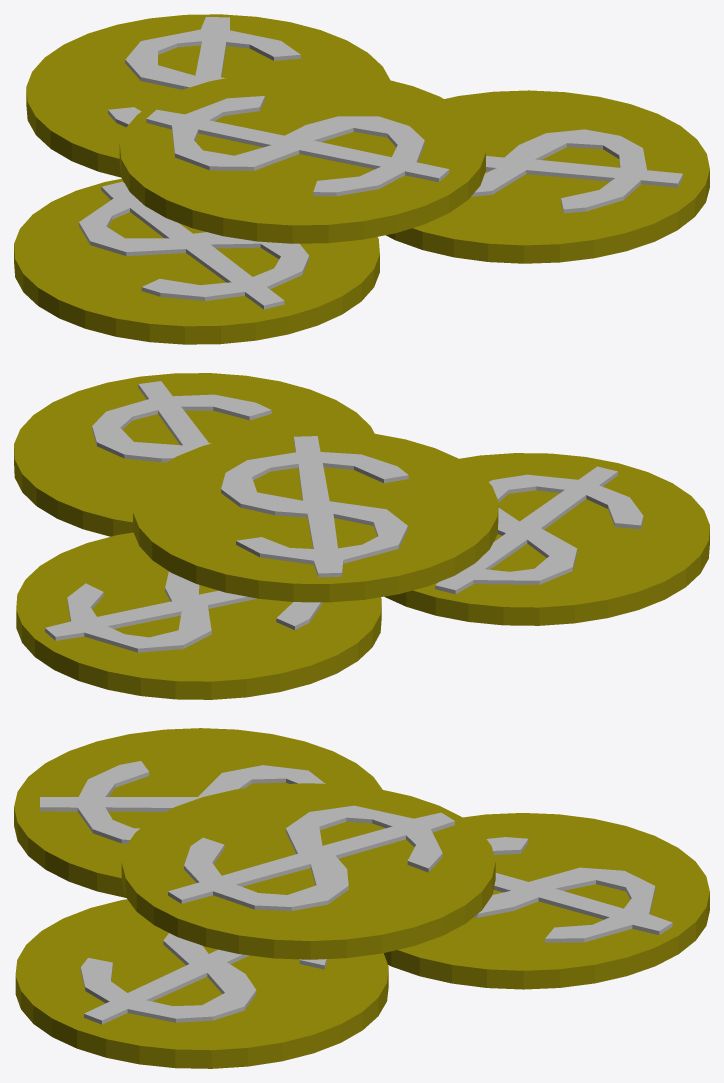
The model's file is Cash ($1).glb.
3 renders of one model, top to bottom at view 1: azimuth 30°, elevation 25°; view 2: azimuth 150°, elevation 25°; view 3: azimuth 270°, elevation 25°, orthographic. The views are drawn at different scales.
Visible parts, largest first — view 1: Coin.003, Coin, Coin.001, Coin.002; view 2: Coin.003, Coin.002, Coin, Coin.001; view 3: Coin.003, Coin.001, Coin.002, Coin.
Boxes of the visible parts, x1=… form: Coin.003: x1=119, y1=70, x2=485, y2=243; Coin: x1=14, y1=178, x2=379, y2=344; Coin.001: x1=386, y1=90, x2=709, y2=263; Coin.002: x1=26, y1=14, x2=389, y2=177; Coin.003: x1=133, y1=429, x2=498, y2=602; Coin.002: x1=16, y1=532, x2=381, y2=699; Coin: x1=384, y1=453, x2=709, y2=625; Coin.001: x1=14, y1=373, x2=374, y2=536; Coin.003: x1=121, y1=783, x2=495, y2=959; Coin.001: x1=15, y1=899, x2=388, y2=1068; Coin.002: x1=384, y1=813, x2=709, y2=989; Coin: x1=14, y1=728, x2=382, y2=897.
Bounding box in the file's own units: 0.3108 × 0.021 × 0.2838.
